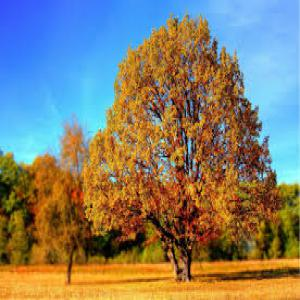Tree: (77, 10, 281, 275)
